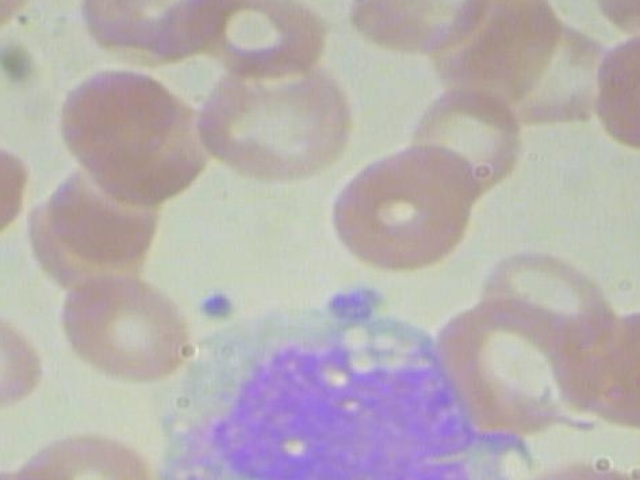RBC: (187, 48, 369, 184), (323, 146, 475, 278), (468, 229, 624, 356), (46, 264, 198, 382), (45, 62, 185, 187), (15, 426, 159, 480), (0, 295, 56, 418), (0, 130, 32, 255)
WBC: (149, 282, 535, 480)
